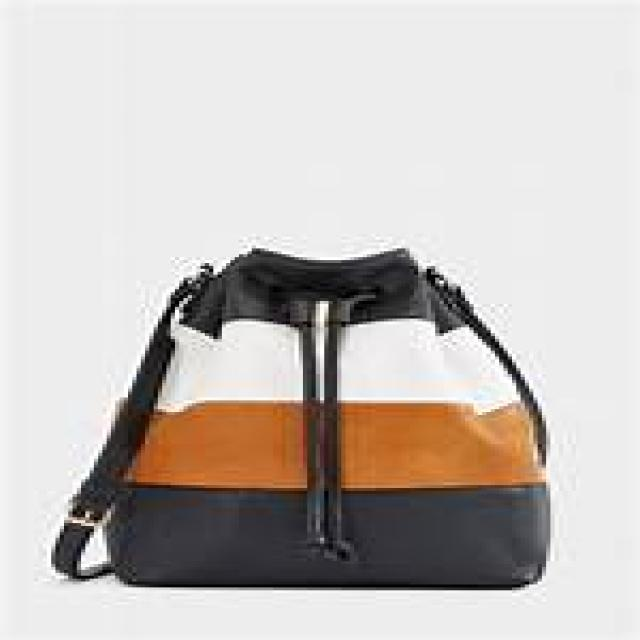backpack: (48, 247, 551, 589)
